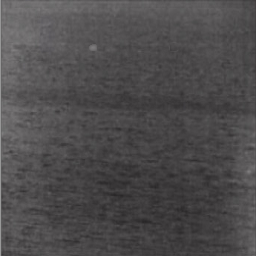Target: (87, 42, 98, 51)
